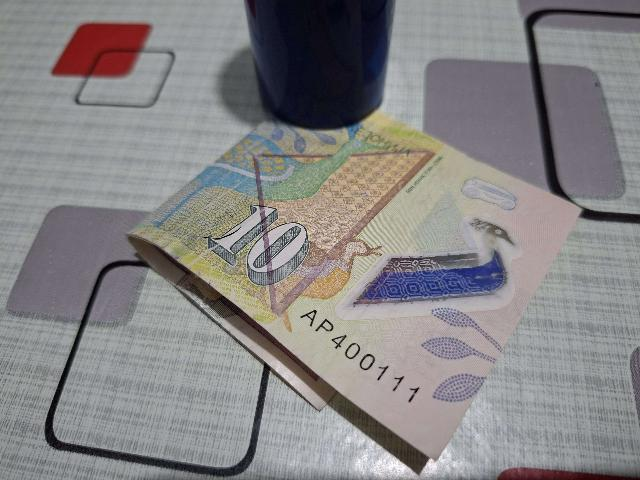note: (129, 112, 579, 457)
